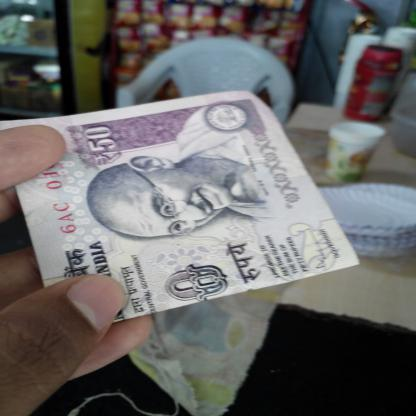Old50Front: (0, 90, 361, 323)
